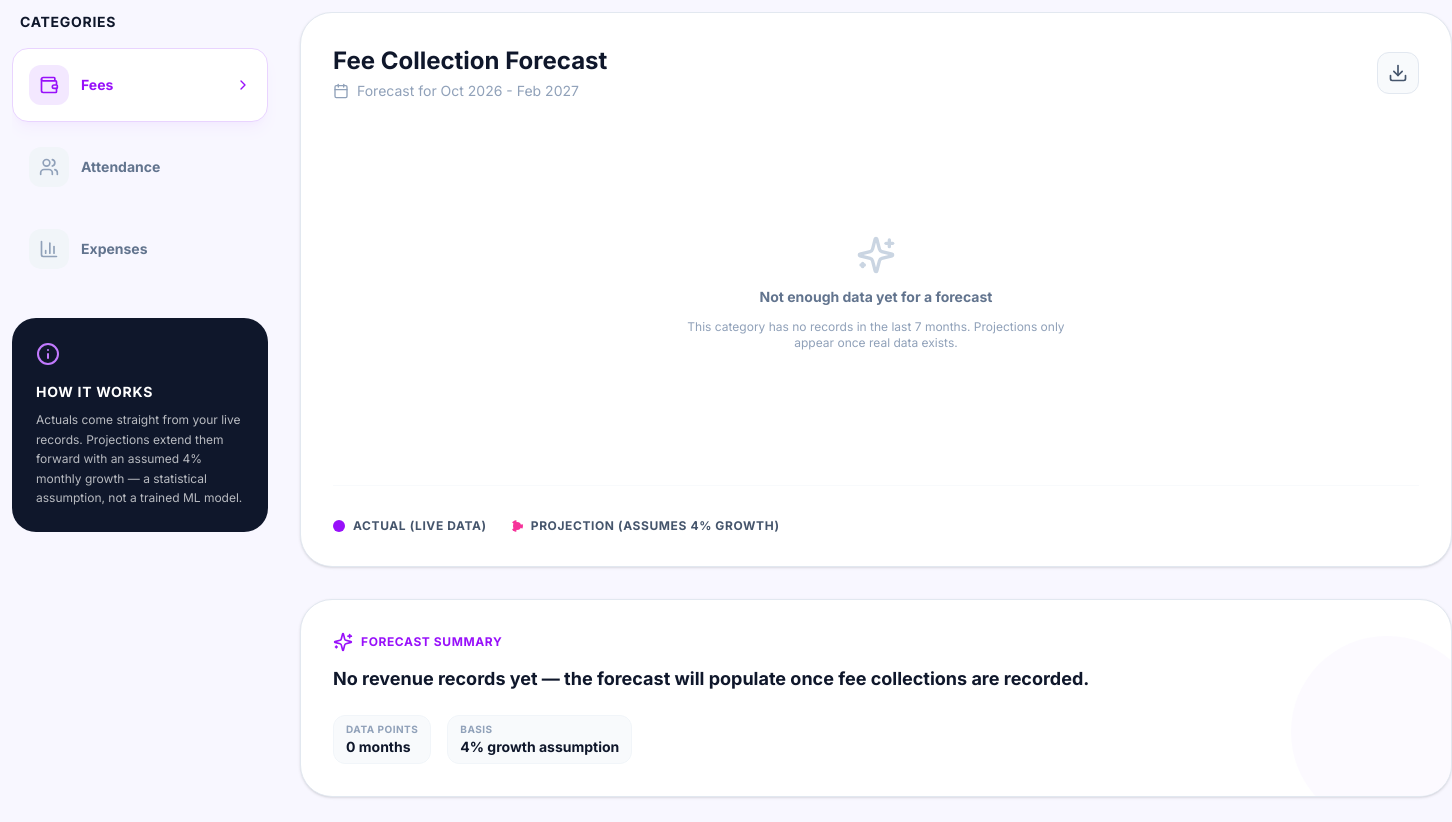
Test case: Predictions › switches to the expenses category
Click the button "Expenses". click: (140, 249)
box: [12, 212, 268, 286]
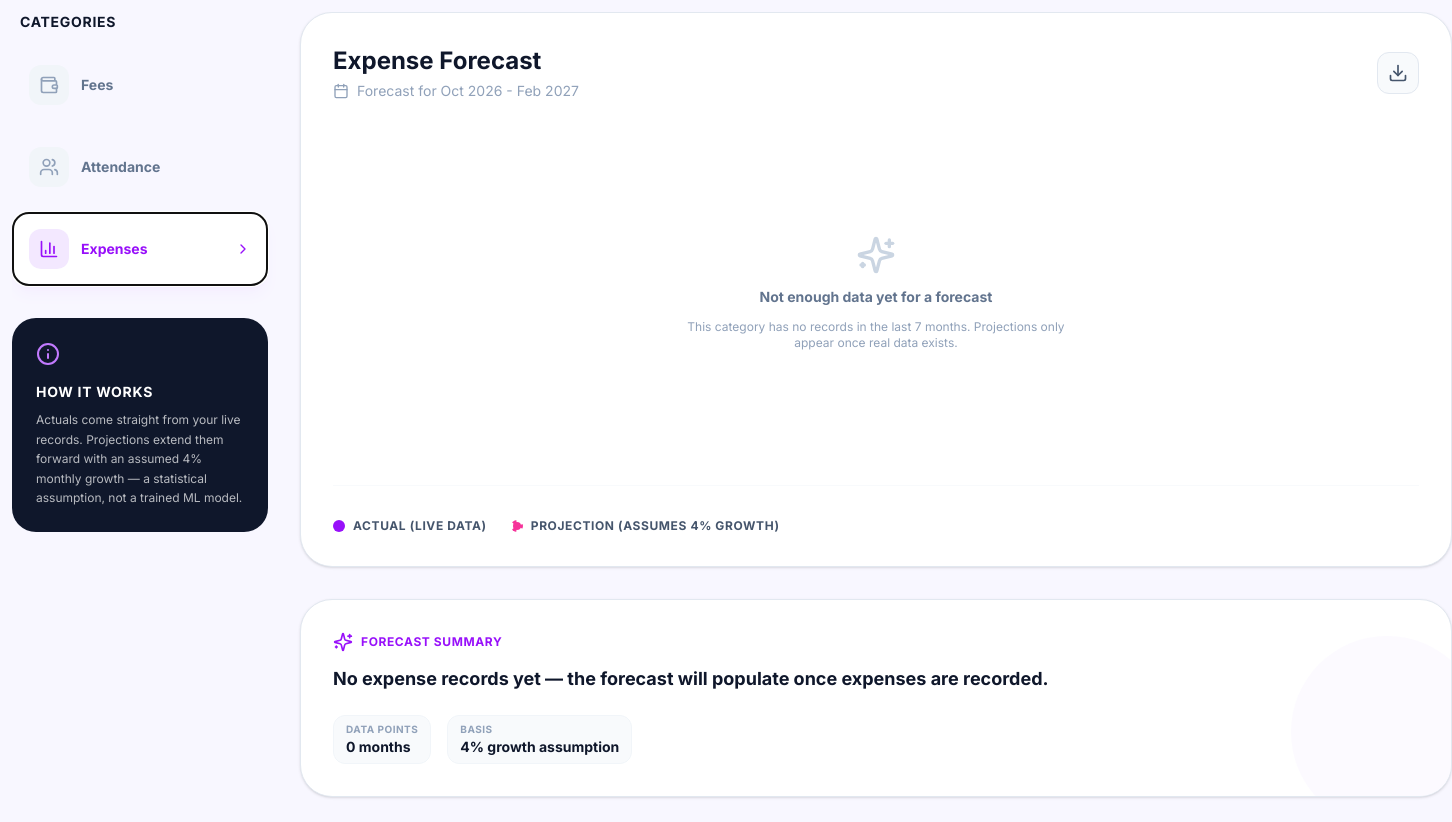
Expected: the heading "Expense Forecast" is shown, [333, 46, 541, 75]
